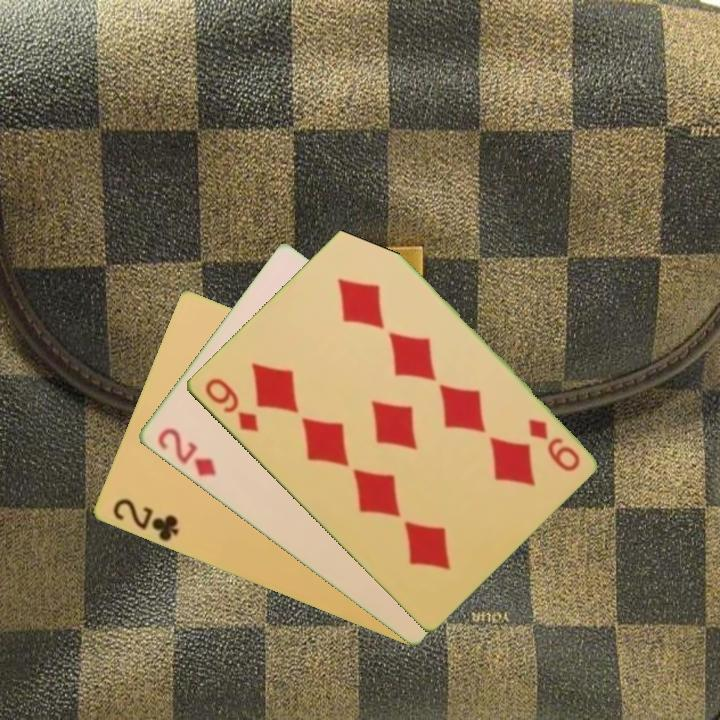2c: (108, 495, 181, 545)
2d: (153, 424, 219, 480)
9d: (201, 374, 262, 435), (524, 415, 582, 475)
